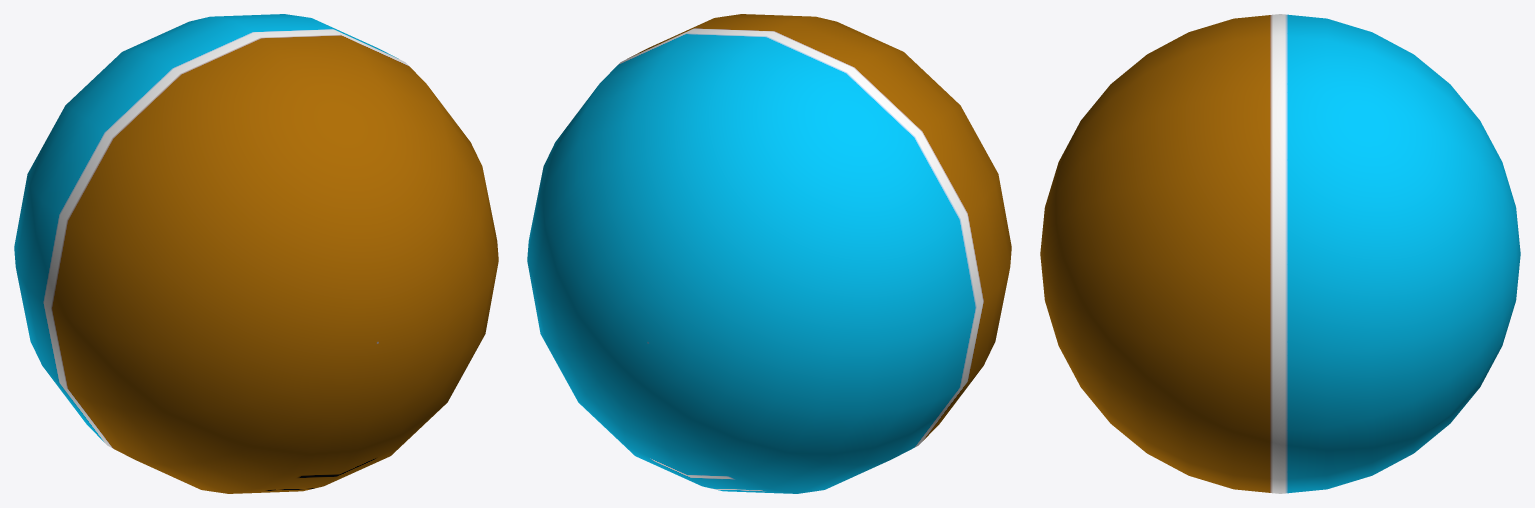
File: gau_ATI_sphere.glb
The picture shows the model from 3 angles, left to right: view 1: azimuth 30°, elevation 25°; view 2: azimuth 150°, elevation 25°; view 3: azimuth 270°, elevation 25°; orthographic projection.
Visible parts, largest first — view 1: ATI_ball; view 2: ATI_ball; view 3: ATI_ball.
Boxes of the visible parts, x1=… form: ATI_ball: x1=14, y1=14, x2=498, y2=493; ATI_ball: x1=527, y1=14, x2=1011, y2=493; ATI_ball: x1=1040, y1=14, x2=1520, y2=493.
Size of the model in its own units: 0.055 by 0.055 by 0.055.
Materials: 1 (1 with a texture image).
